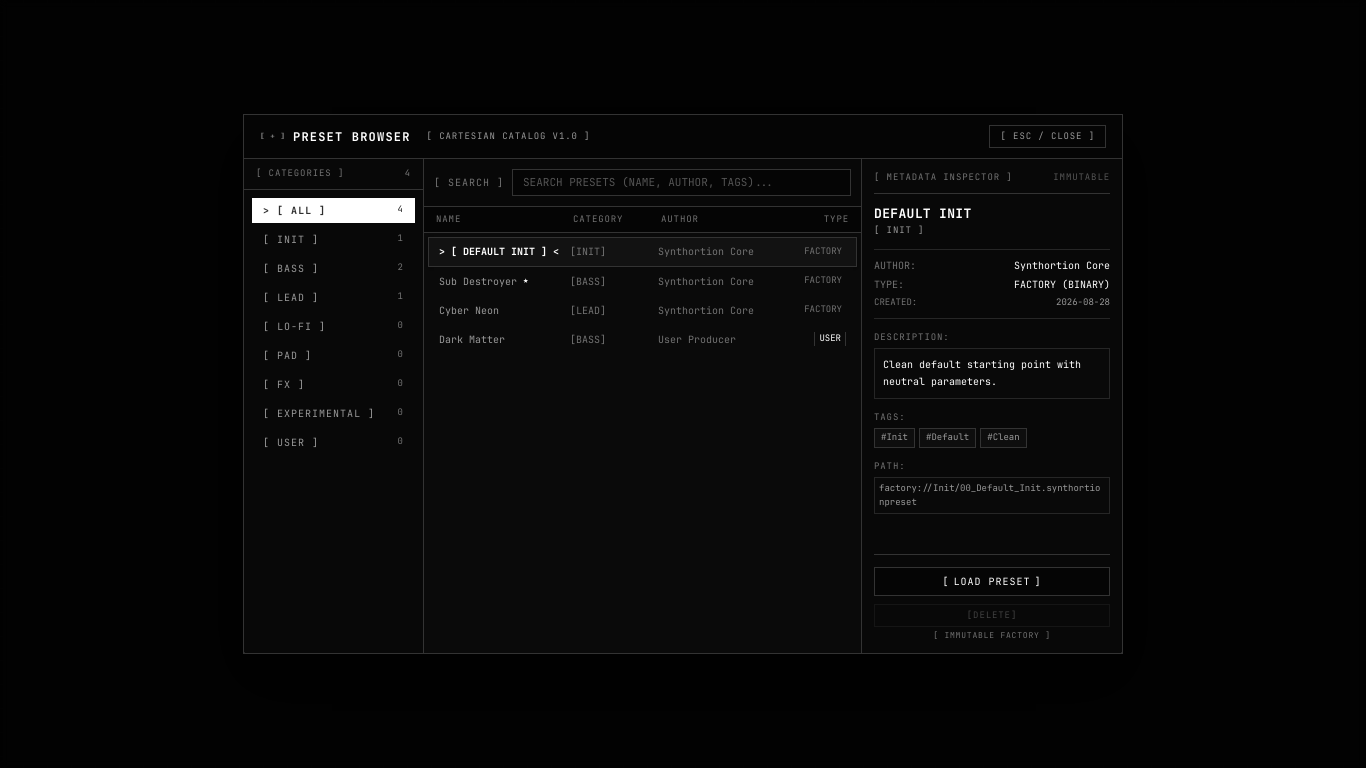
PresetBrowserModal › selects preset on row click and updates metadata inspector
This screenshot has width=1366, height=768.
Click on Cyber Neon preset row in main table
Click the text "Cyber Neon": (469, 310) left=439, top=302, right=499, bottom=318
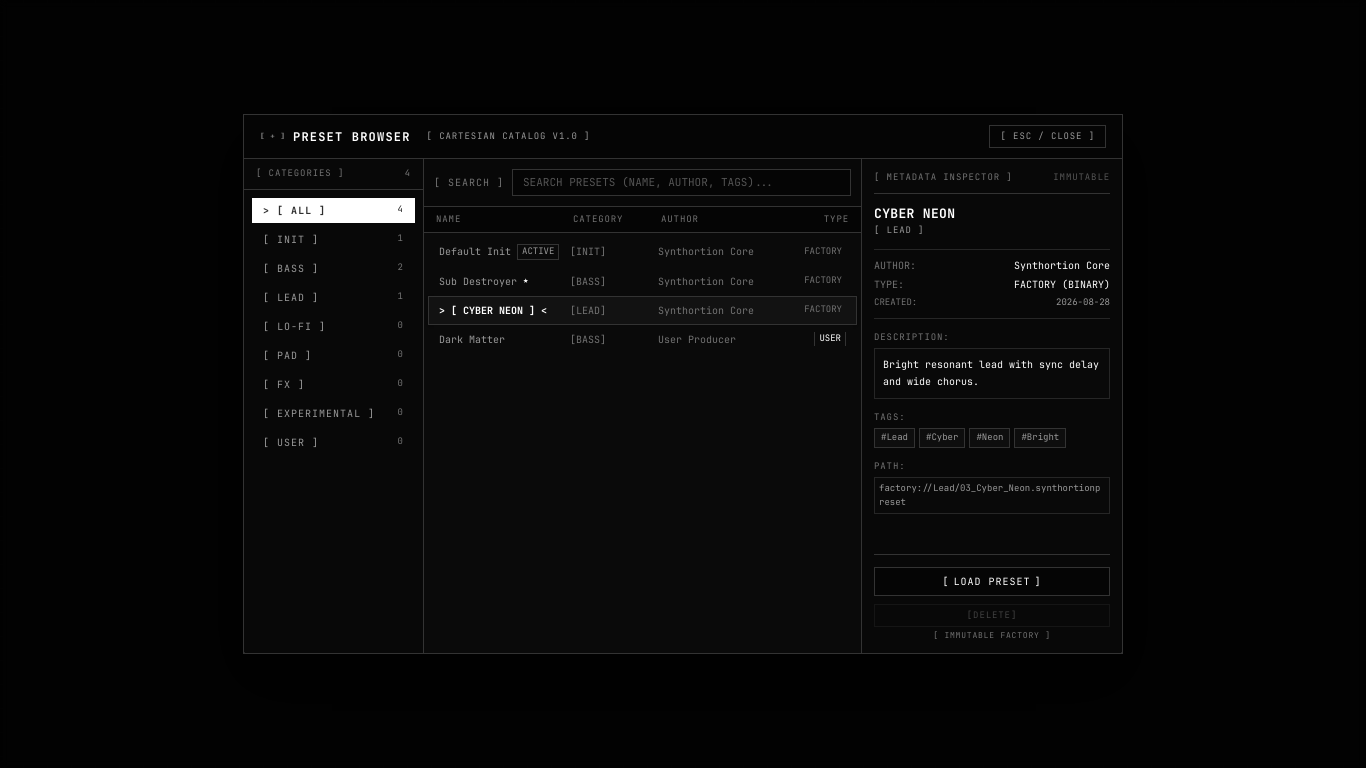
expect the text "Bright resonant lead with sync delay and wide chorus." is shown: met, box left=874, top=348, right=1110, bottom=399
expect the text "factory://Lead/03_Cyber_Neon.synthortionpreset" is shown: met, box left=874, top=477, right=1110, bottom=514
